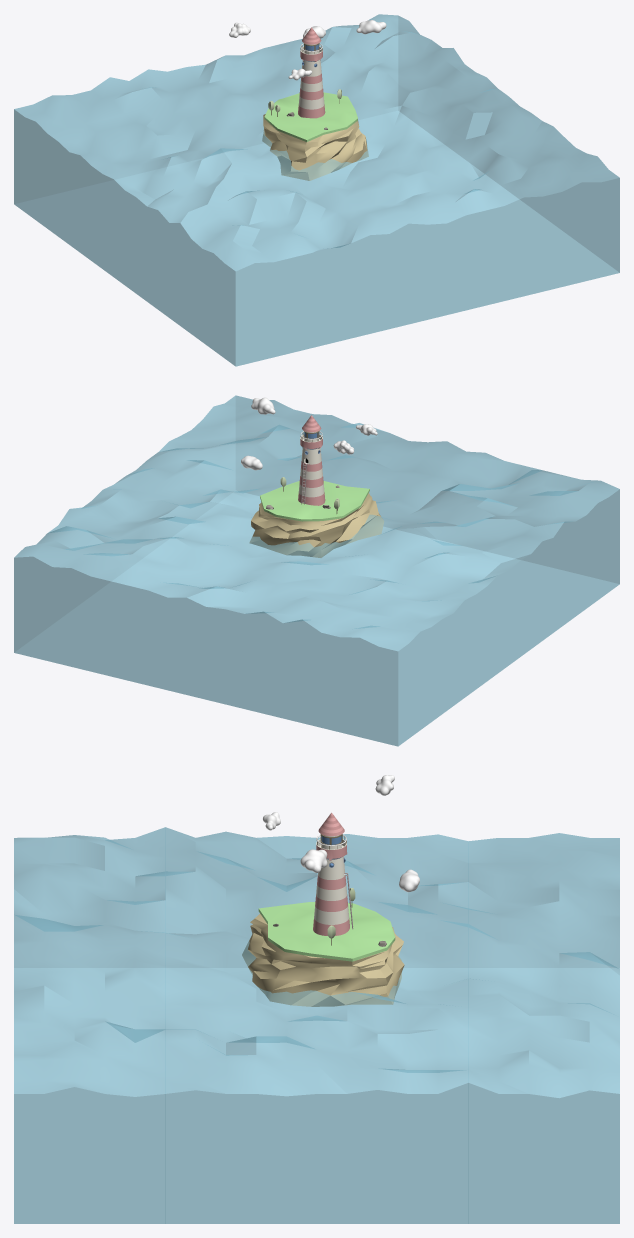
3 views of the same model, one above another, from view 1: azimuth 30°, elevation 25°; view 2: azimuth 150°, elevation 25°; view 3: azimuth 270°, elevation 25° (orthographic). The views are drawn at different scales.
Visible parts, largest first — view 1: skfb_offset; view 2: skfb_offset; view 3: skfb_offset.
Part boxes in pixels (<box>): skfb_offset: <box>14,14,619,366</box>; skfb_offset: <box>14,395,619,746</box>; skfb_offset: <box>14,775,619,1223</box>.
Bounding box in the file's own units: 59917 × 31166 × 59917.
